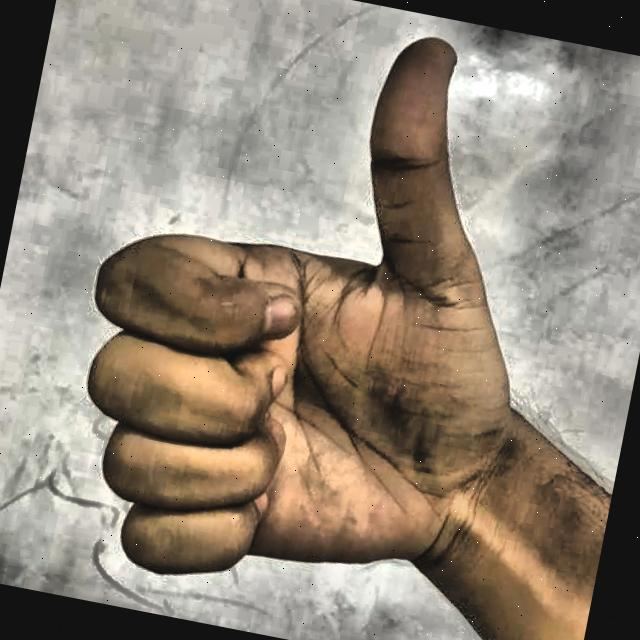Do: (14, 0, 594, 640)
